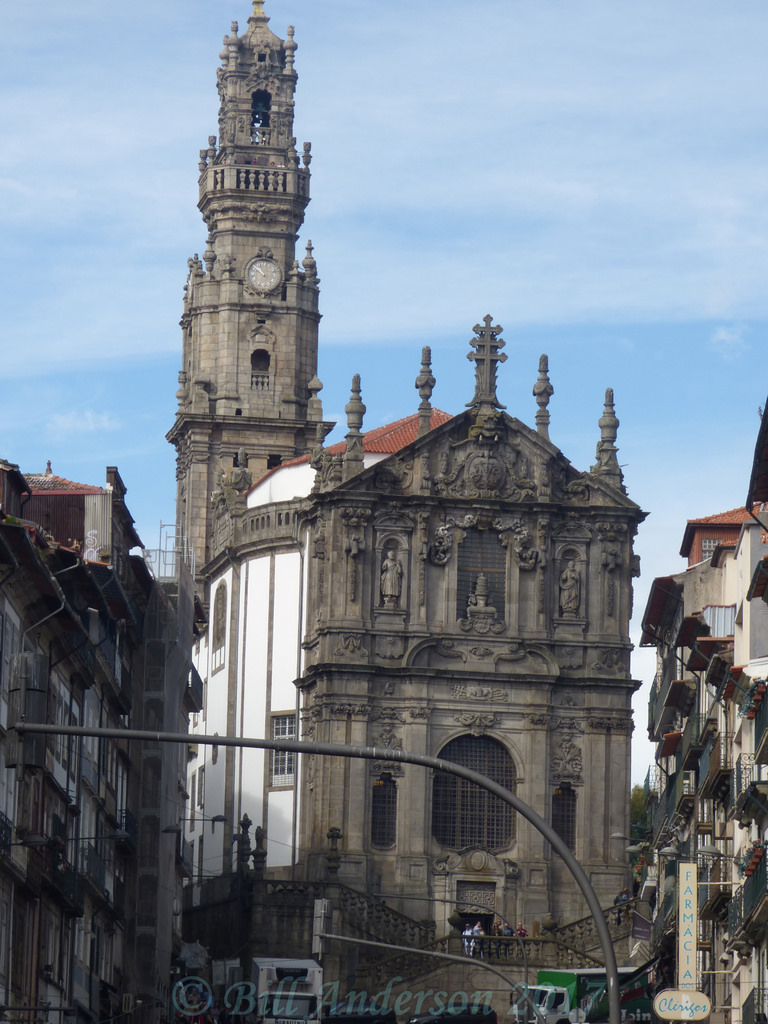clerigos: (166, 0, 336, 612)
